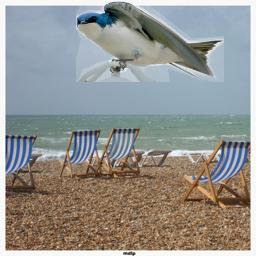Swallow: (76, 1, 224, 82)
